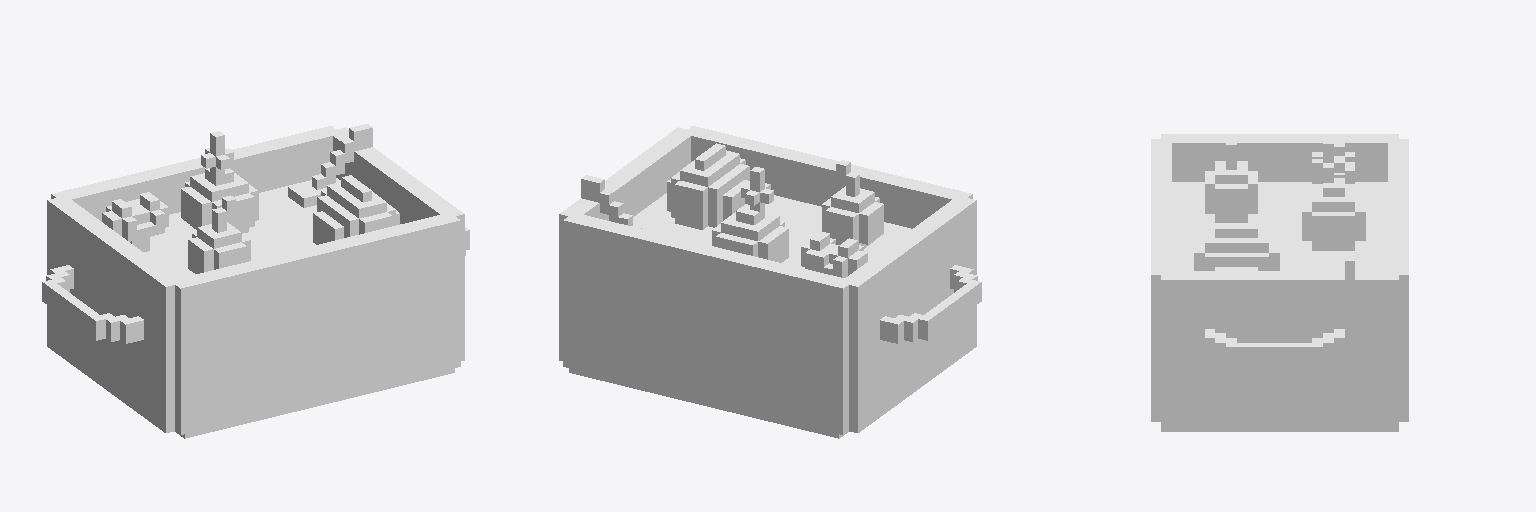
The model's file is ModelsFedaHome-4.obj.
3 renders of one model, left to right at view 1: azimuth 30°, elevation 25°; view 2: azimuth 150°, elevation 25°; view 3: azimuth 270°, elevation 25°, orthographic.
Parts seen in each view (by area): view 1: object 1; view 2: object 1; view 3: object 1.
Part boxes in pixels (x1,y1,x2,y2): object 1: (42, 124, 469, 438); object 1: (559, 126, 981, 438); object 1: (1151, 134, 1408, 431).
Bounding box in the file's own units: 4 × 2.2 × 2.4.